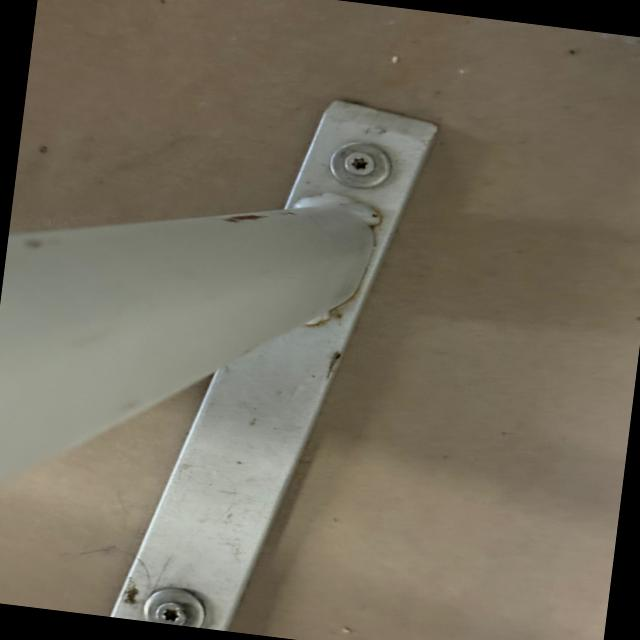Torx: (336, 147, 386, 184), (148, 596, 202, 628)
